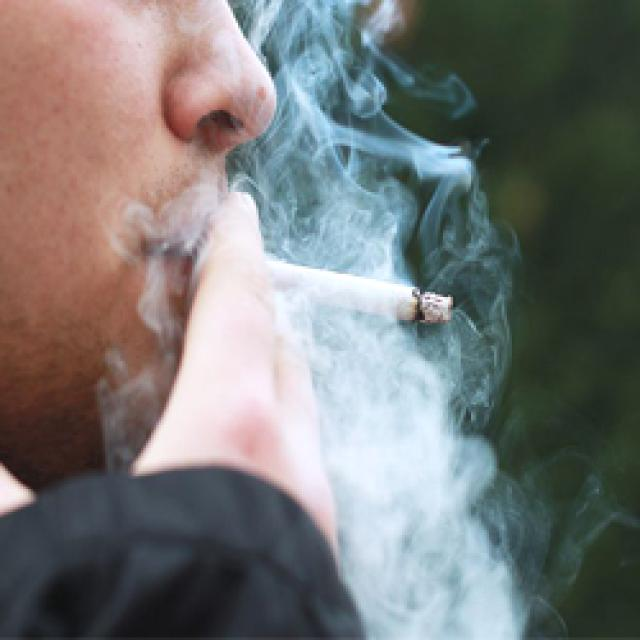Smooking: (276, 250, 478, 352)
